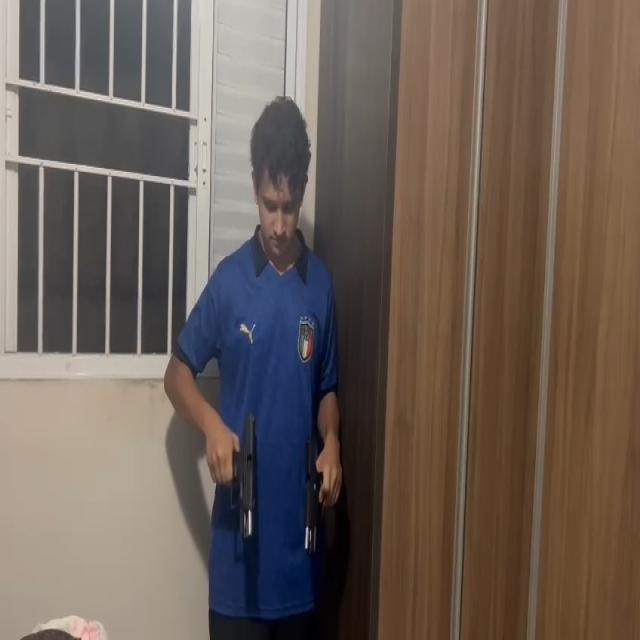gun: (231, 416, 256, 538), (302, 441, 320, 555)
